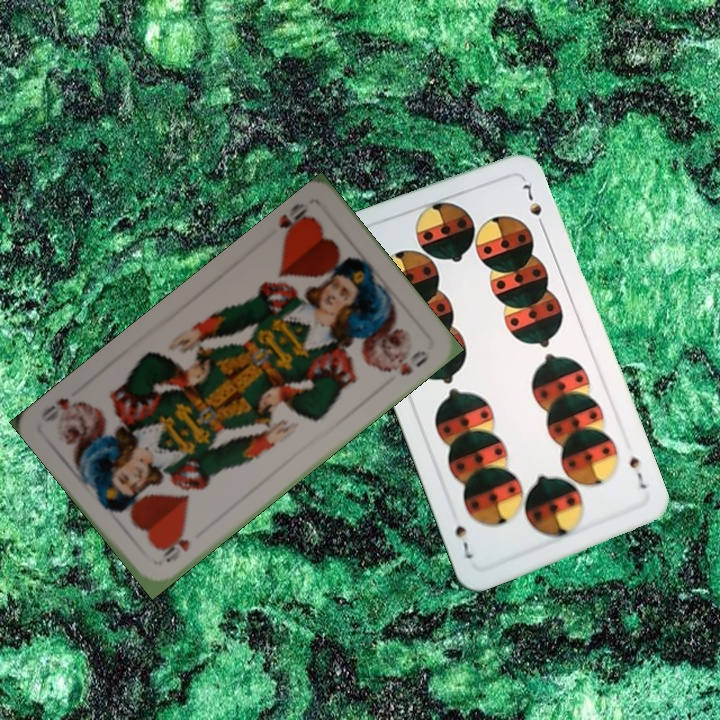HO: (275, 198, 317, 245), (156, 534, 193, 565)
S7: (625, 450, 649, 492)
